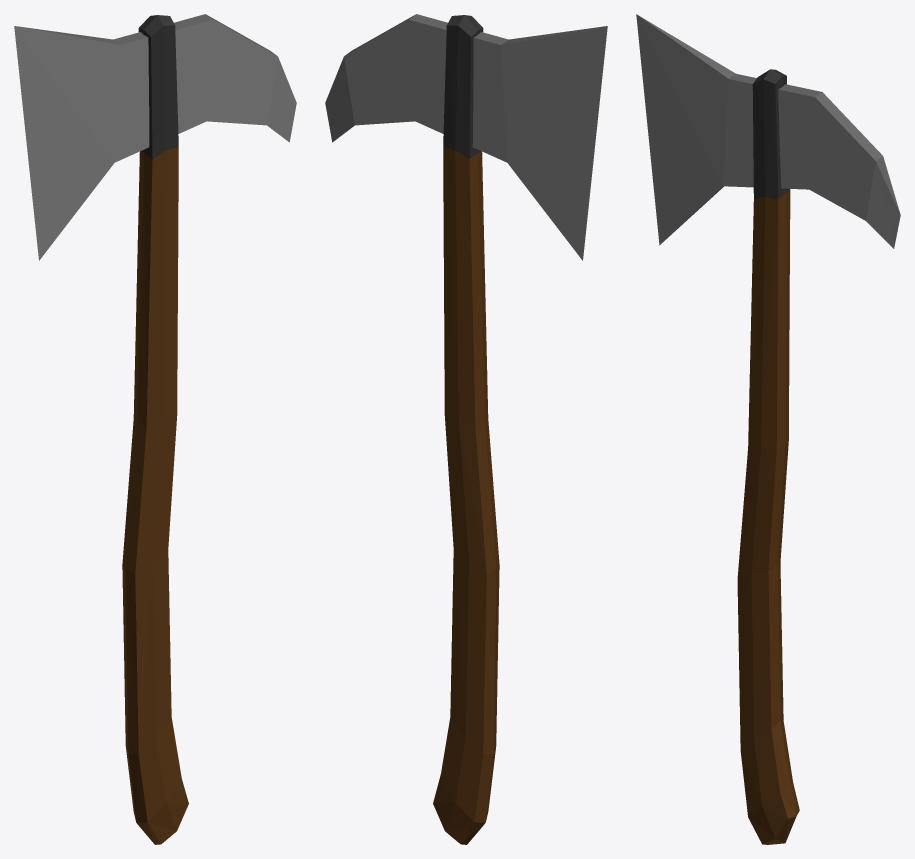
File: scene_7ZbhrBZTBe.glb
The picture shows the model from 3 angles, left to right: view 1: azimuth 30°, elevation 25°; view 2: azimuth 150°, elevation 25°; view 3: azimuth 330°, elevation 25°; orthographic projection. The views are drawn at different scales.
Visible parts, largest first — view 1: Comically_Large_Axe_comically_lage_axe_Cube.012; view 2: Comically_Large_Axe_comically_lage_axe_Cube.012; view 3: Comically_Large_Axe_comically_lage_axe_Cube.012.
Boxes of the visible parts, x1,y1,x2,y2 form: Comically_Large_Axe_comically_lage_axe_Cube.012: [14, 14, 296, 844]; Comically_Large_Axe_comically_lage_axe_Cube.012: [325, 14, 607, 844]; Comically_Large_Axe_comically_lage_axe_Cube.012: [636, 14, 900, 844].
Bounding box in the file's own units: 1.79 × 5.16 × 0.1922.
Materials: 1 (1 with a texture image).
